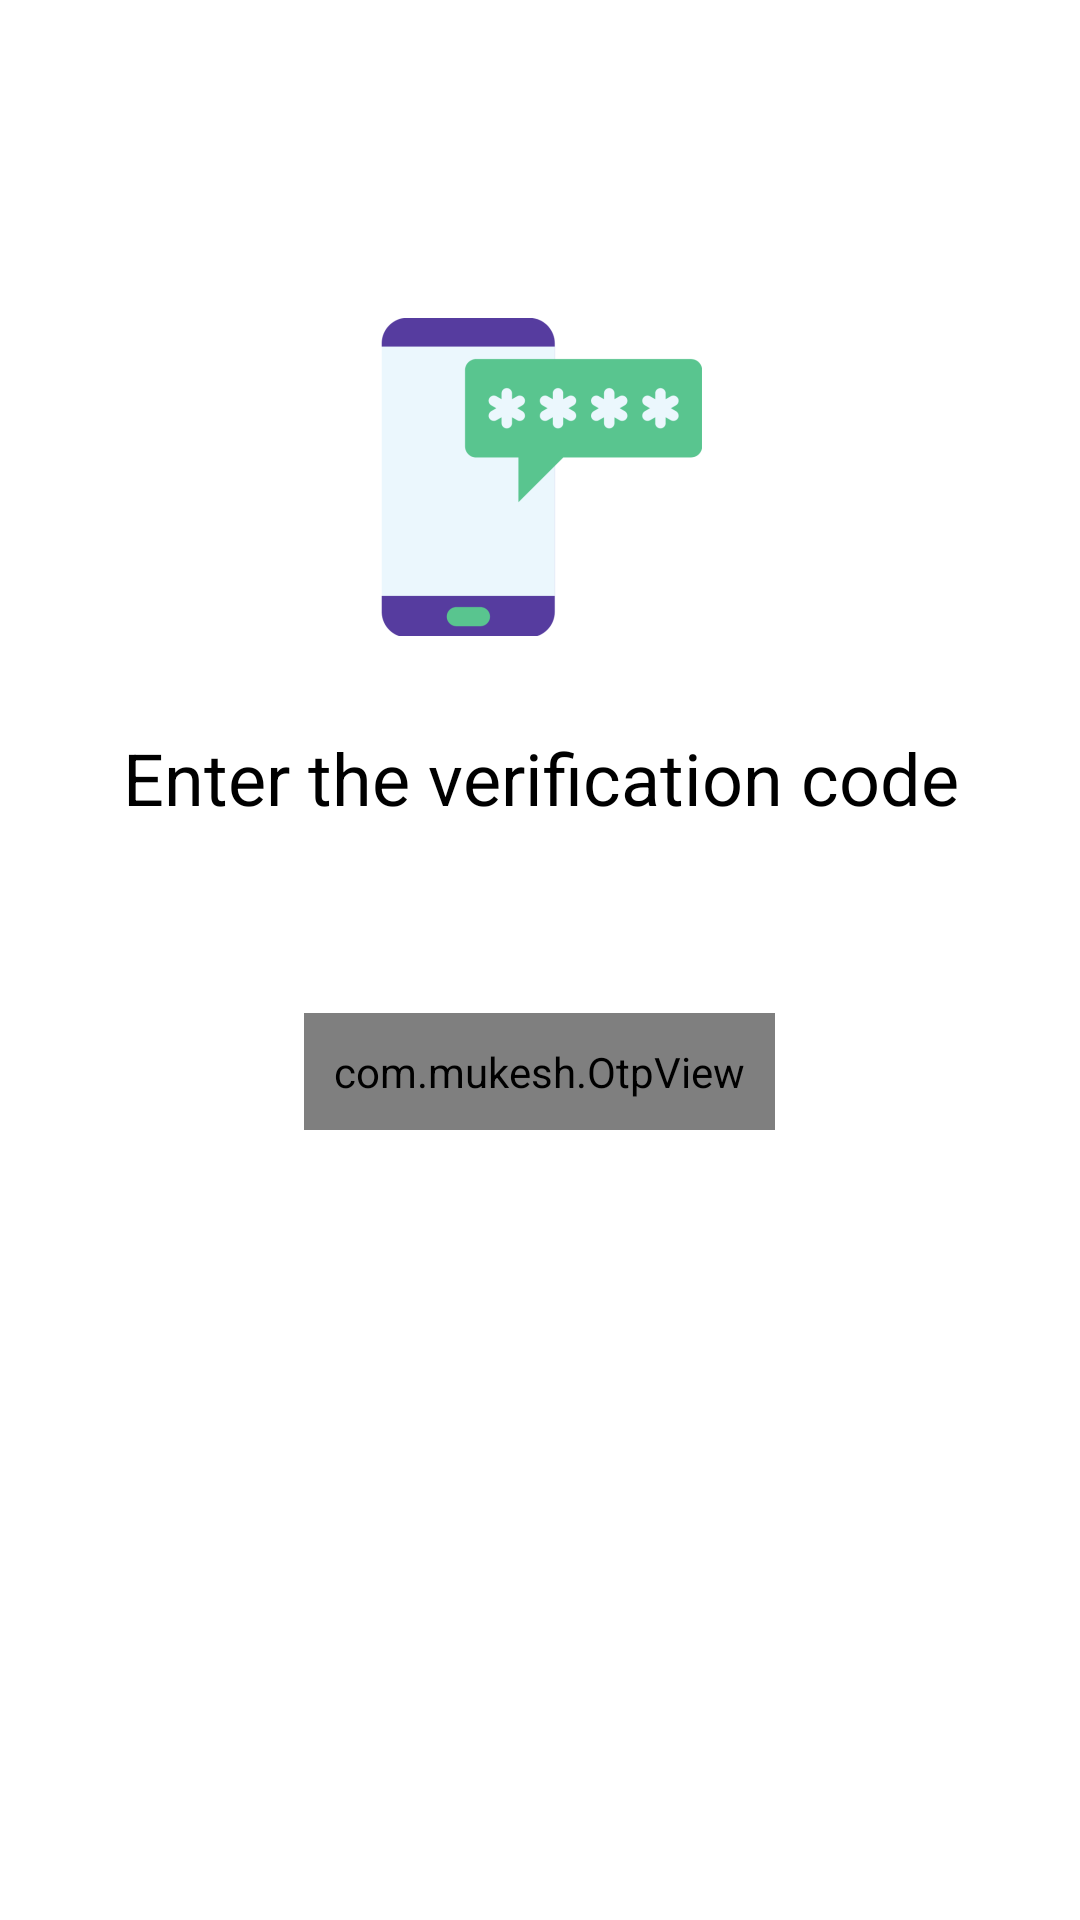

Locate icon controls on the screen. Image size 1080px×1920px, boxes as box=[x1, y1, x2, y2].
OTPLogo: box=[381, 318, 702, 636]
